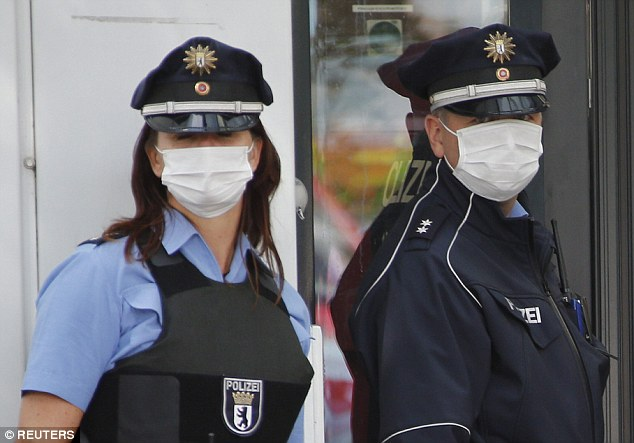mask: (445, 121, 543, 203), (159, 148, 254, 219)
